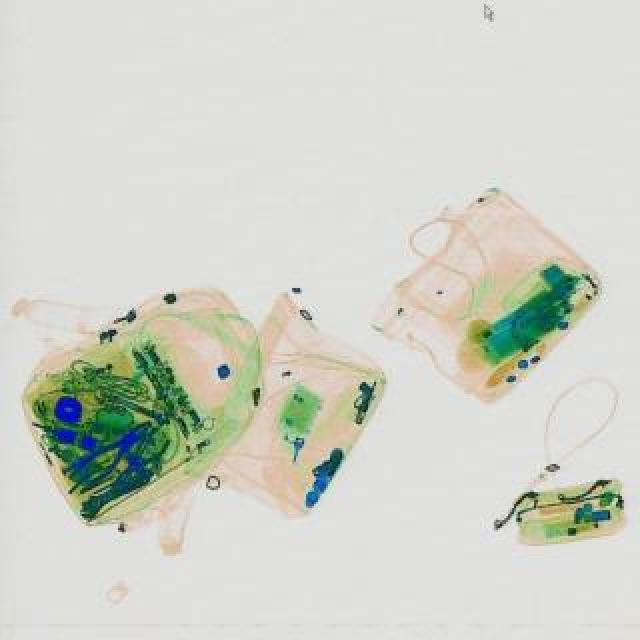scissors: (74, 464, 158, 518)
wrench: (60, 410, 160, 496), (100, 418, 178, 494)
